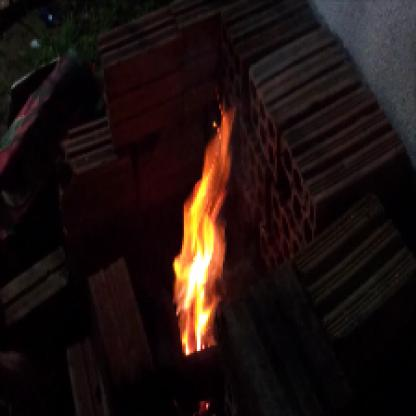Fire: (165, 89, 247, 355)
